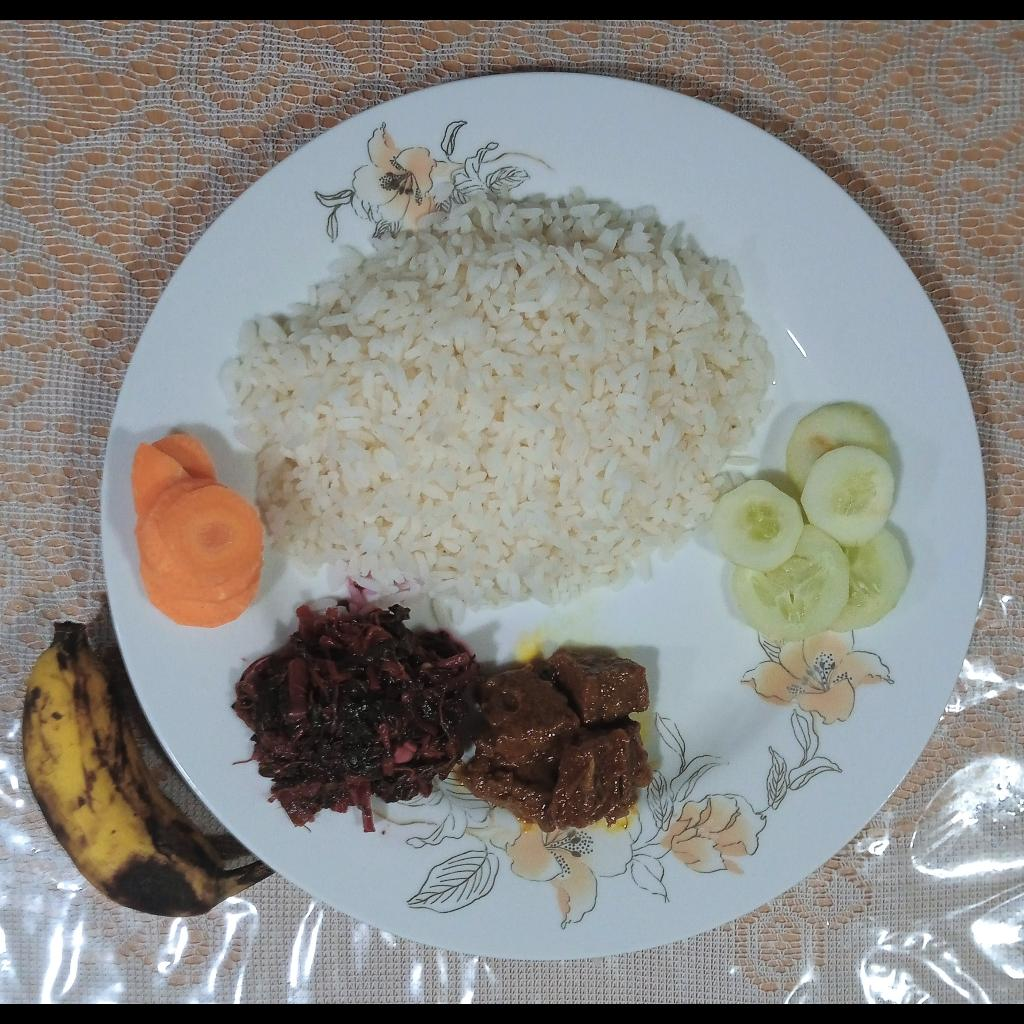banana: (23, 620, 277, 918)
beef: (456, 652, 652, 832)
carrot: (130, 433, 264, 629)
cucumber: (712, 402, 909, 638)
lal-shak: (228, 599, 477, 832)
rice: (224, 185, 770, 624)
